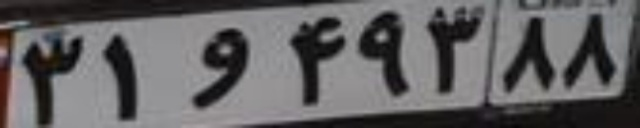1: (99, 34, 142, 121)
3: (19, 37, 89, 127), (423, 4, 486, 94)
4: (287, 17, 346, 106)
8: (498, 16, 558, 93), (565, 13, 620, 87)
9: (357, 11, 413, 98)
vav: (186, 27, 244, 105)
